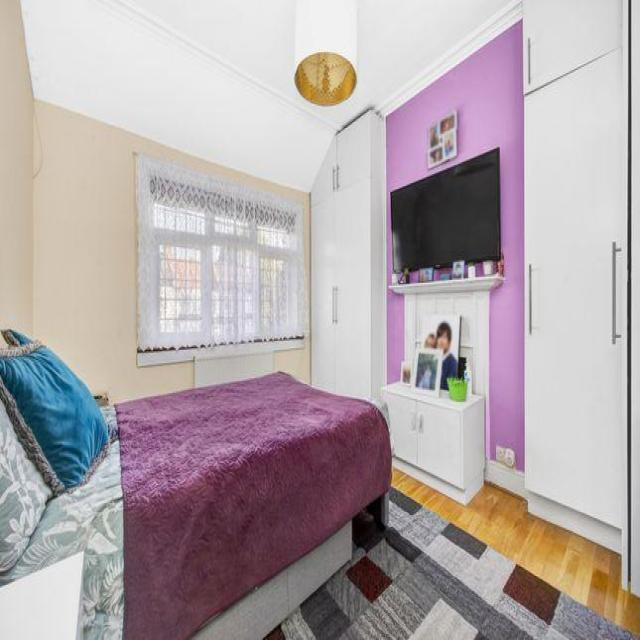Wall: (0, 0, 309, 401), (21, 0, 521, 190), (270, 469, 640, 640), (386, 22, 524, 470), (274, 336, 310, 382), (386, 291, 404, 382)
